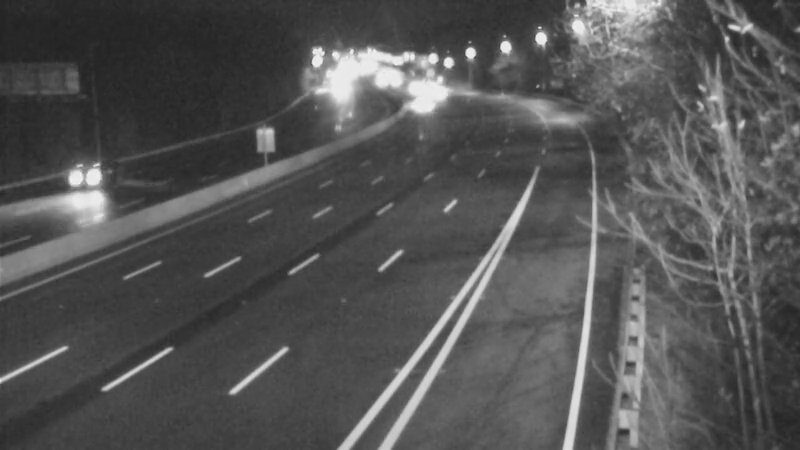vehicle: (52, 134, 132, 214), (388, 63, 438, 113), (396, 78, 446, 128)
